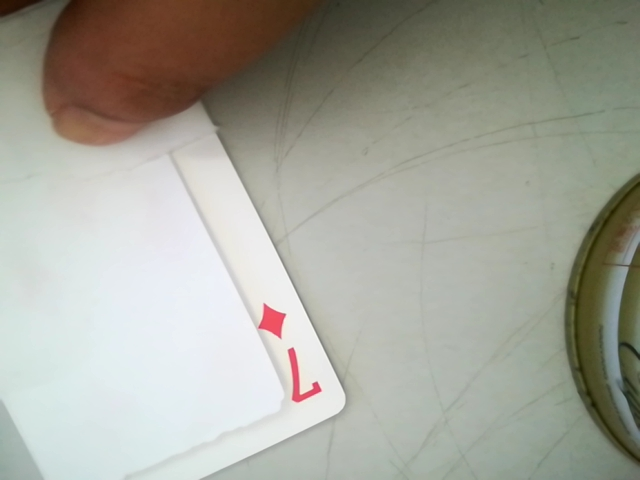fk 7: (244, 287, 325, 417)
